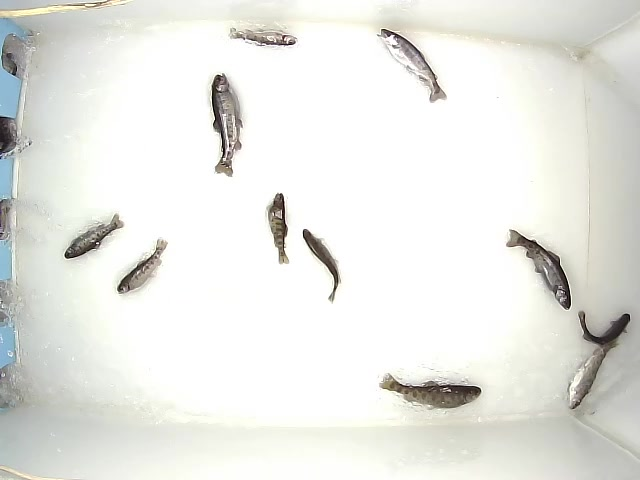fish: (567, 321, 627, 410), (376, 28, 447, 103), (506, 229, 571, 310), (379, 373, 482, 410), (212, 73, 243, 178), (117, 236, 169, 295), (302, 228, 342, 304), (64, 213, 124, 259), (578, 310, 631, 345), (268, 192, 290, 265), (229, 27, 298, 47)
